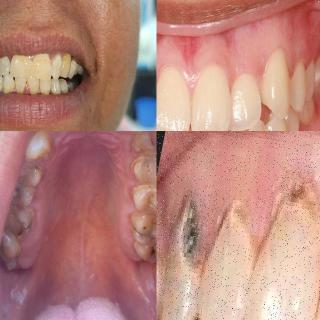Gum Swelling: (156, 53, 238, 102), (24, 82, 32, 96)
cavities: (271, 173, 320, 239), (175, 195, 208, 272), (218, 202, 258, 262), (132, 218, 150, 242), (14, 220, 34, 240), (142, 238, 156, 262), (14, 183, 28, 204), (26, 160, 42, 177), (146, 136, 156, 152)
maligned: (258, 50, 292, 121), (156, 67, 190, 131), (231, 70, 266, 131), (0, 233, 23, 259), (1, 251, 19, 273), (32, 131, 64, 137), (123, 131, 145, 139)
plaque: (128, 183, 156, 213), (128, 156, 156, 183), (18, 209, 36, 242), (31, 137, 55, 161), (32, 158, 48, 182), (128, 135, 146, 153), (25, 184, 39, 206), (28, 58, 38, 75), (22, 76, 32, 92), (49, 82, 55, 96), (59, 84, 65, 98), (49, 58, 55, 70)
stains: (3, 79, 15, 97), (37, 78, 47, 94), (0, 81, 3, 92)
